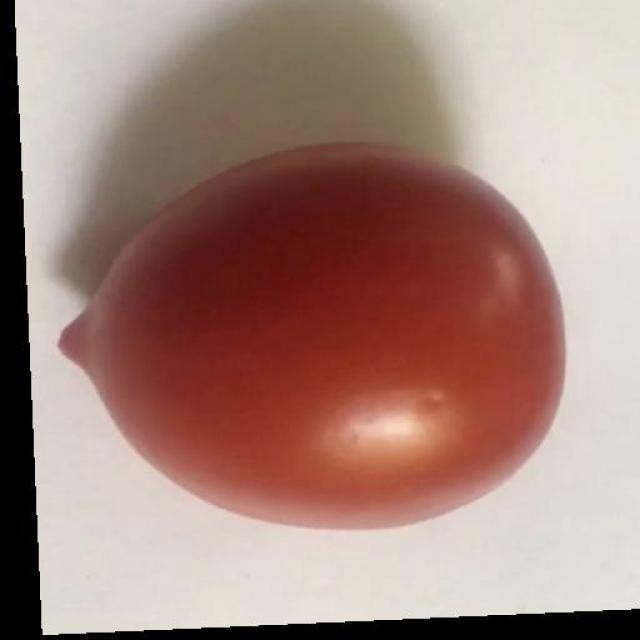tomato: (57, 143, 567, 533)
